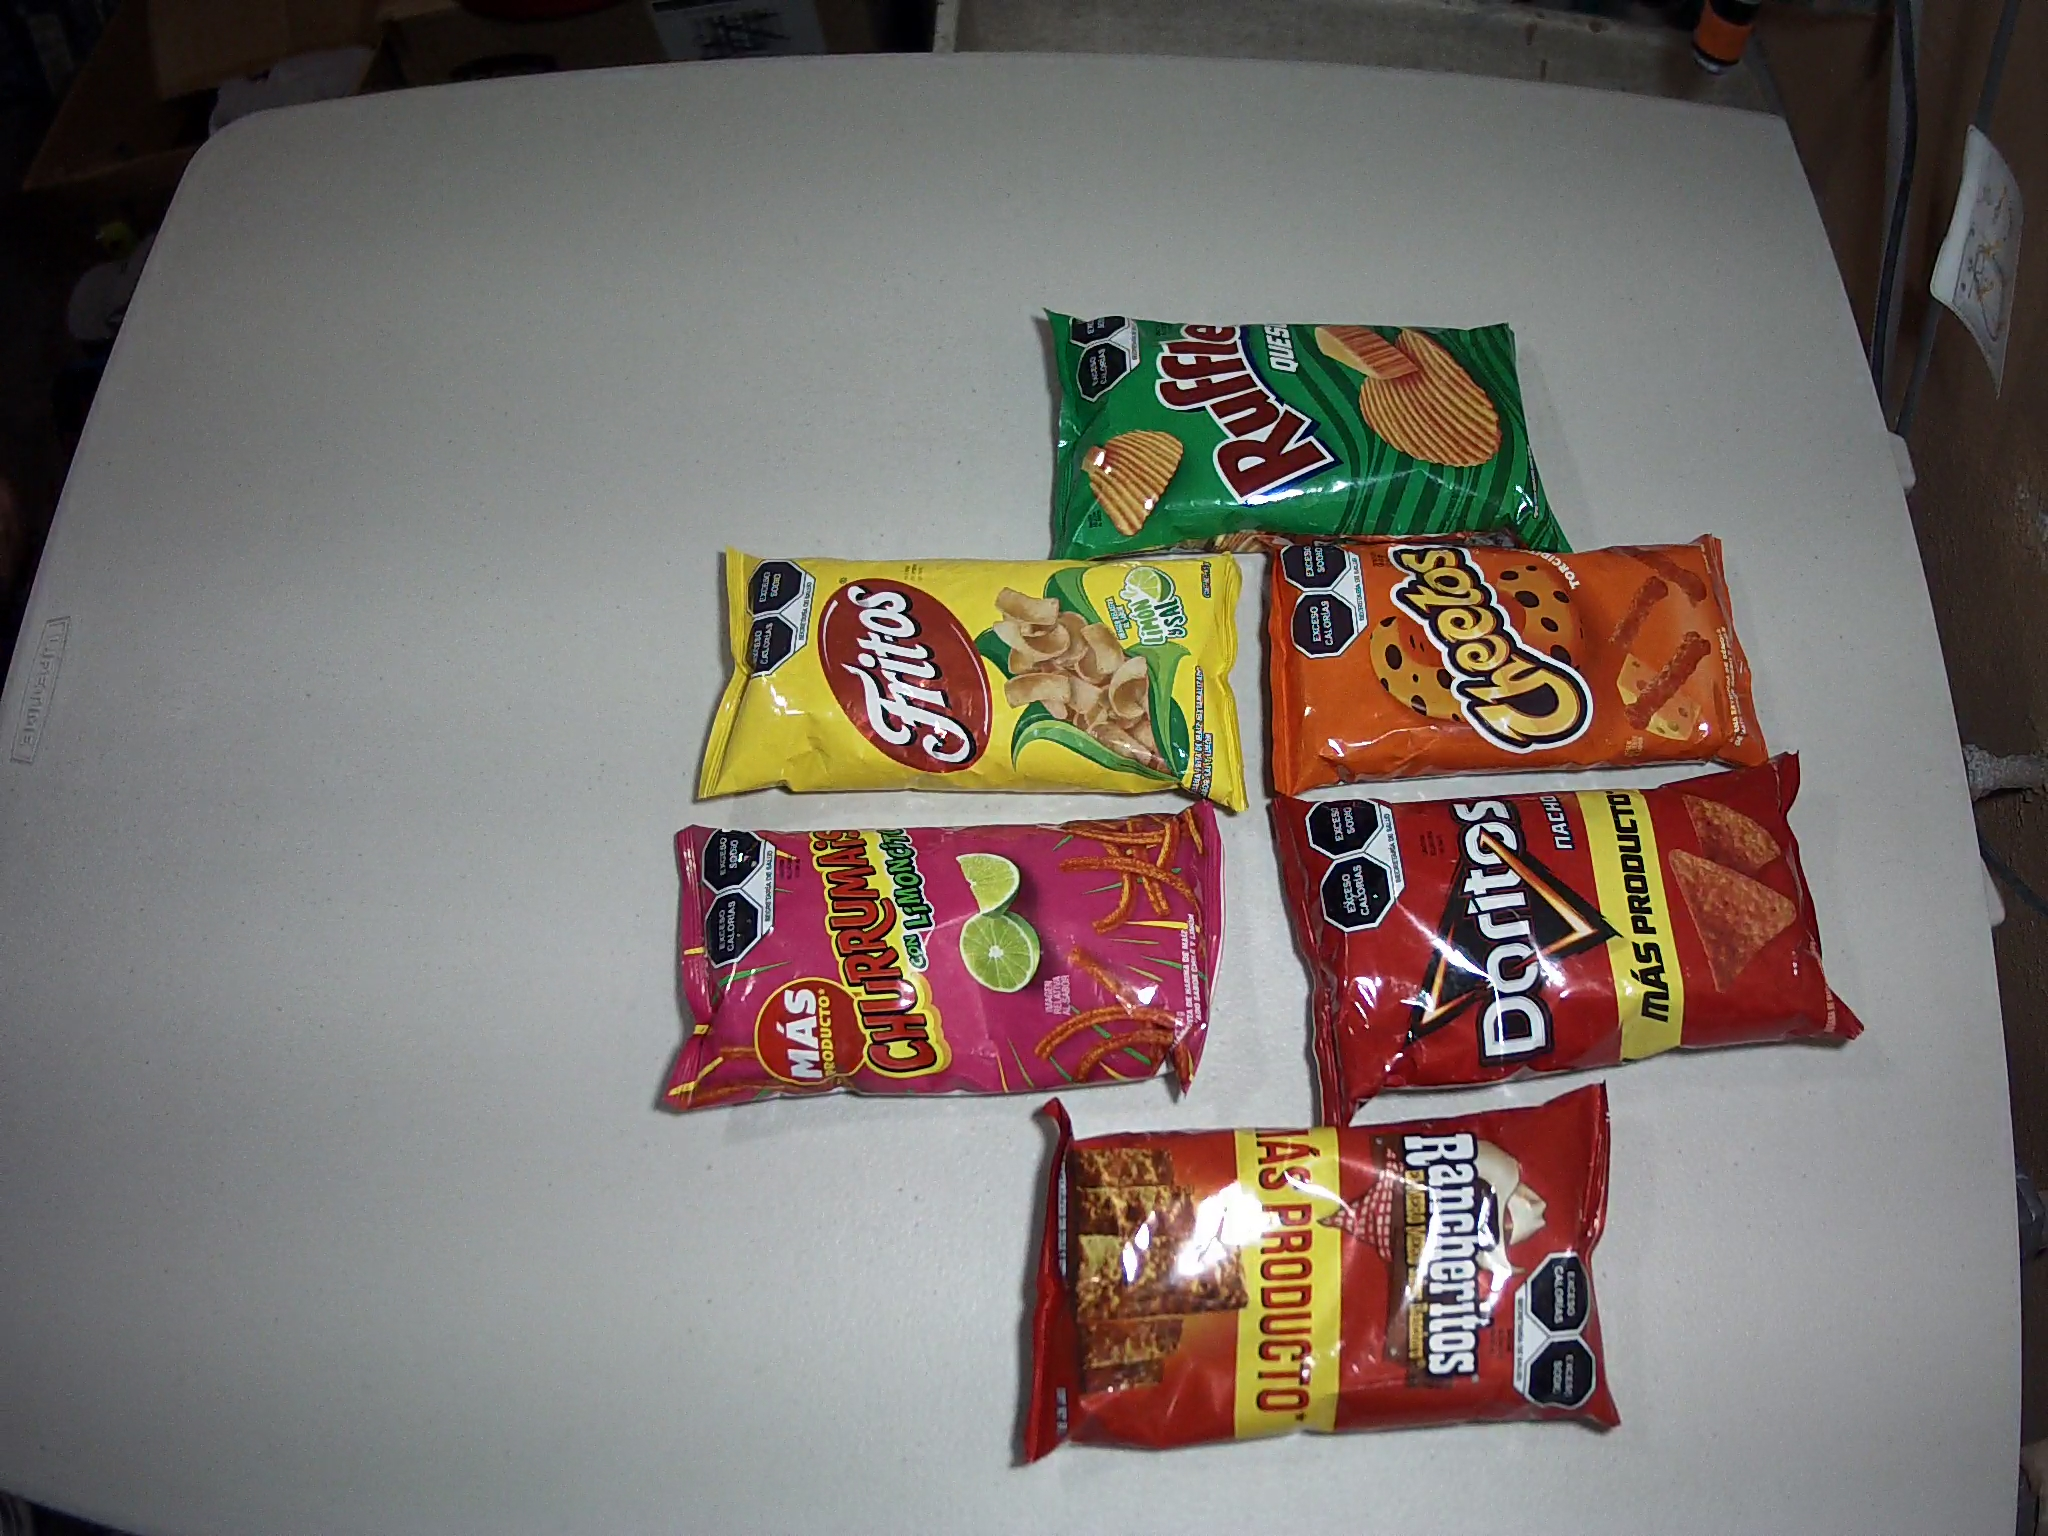CheetosTorciditos_55_F: (1268, 529, 1772, 778)
Churrumais_70_F: (656, 799, 1229, 1113)
DoritosN_61_F: (1269, 750, 1867, 1137)
FritosSalLimon_65_F: (693, 547, 1247, 812)
Rancheritos_58_F: (1022, 1078, 1629, 1467)
RufflesQ_48_F: (1039, 307, 1569, 571)
